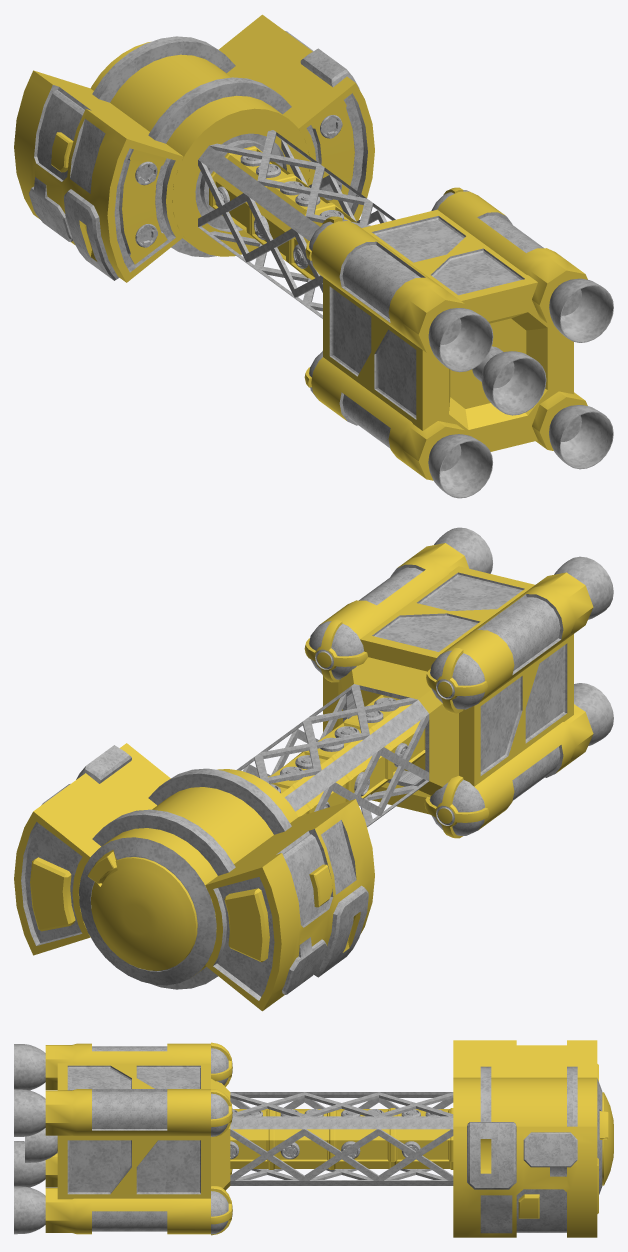
The model's file is Fregate.fbx.
The picture shows the model from 3 angles, top to bottom: view 1: azimuth 30°, elevation 25°; view 2: azimuth 150°, elevation 25°; view 3: azimuth 270°, elevation 25°; orthographic projection. The views are drawn at different scales.
Parts seen in each view (by area): view 1: ME_Frigate_Rotator, ME_Fregate_machinery, ME_Frigate_main_bridge, ME_Fregate_Engine, ME_Fregate_cover, ME_Fregate_Engine.001, ME_Fregate_Engine.002, ME_Fregate_join, ME_Fregate_Engine.003, ME_Fregate_Engine.004; view 2: ME_Frigate_Rotator, ME_Frigate_main_bridge, ME_Fregate_machinery, ME_Fregate_Engine, ME_Fregate_cover, ME_Fregate_Engine.001, ME_Fregate_Engine.002, ME_Fregate_join; view 3: ME_Frigate_Rotator, ME_Fregate_machinery, ME_Fregate_cover, ME_Fregate_Engine.002, ME_Frigate_main_bridge, ME_Fregate_Engine.003, ME_Fregate_join, ME_Fregate_Engine, ME_Fregate_Engine.001, ME_Fregate_Engine.004.
Boxes of the visible parts, x1=… form: ME_Frigate_Rotator: x1=14, y1=14, x2=374, y2=282; ME_Fregate_machinery: x1=323, y1=209, x2=573, y2=451; ME_Frigate_main_bridge: x1=90, y1=36, x2=309, y2=257; ME_Fregate_Engine: x1=305, y1=216, x2=493, y2=372; ME_Fregate_cover: x1=198, y1=130, x2=395, y2=318; ME_Fregate_Engine.001: x1=304, y1=351, x2=492, y2=498; ME_Fregate_Engine.002: x1=431, y1=187, x2=613, y2=342; ME_Fregate_join: x1=209, y1=146, x2=357, y2=279; ME_Fregate_Engine.003: x1=532, y1=391, x2=613, y2=469; ME_Fregate_Engine.004: x1=472, y1=346, x2=546, y2=415; ME_Frigate_Rotator: x1=14, y1=743, x2=374, y2=1011; ME_Frigate_main_bridge: x1=79, y1=768, x2=298, y2=989; ME_Fregate_machinery: x1=323, y1=566, x2=573, y2=814; ME_Fregate_Engine: x1=426, y1=556, x2=613, y2=713; ME_Fregate_cover: x1=237, y1=684, x2=429, y2=827; ME_Fregate_Engine.001: x1=424, y1=683, x2=613, y2=838; ME_Fregate_Engine.002: x1=304, y1=527, x2=492, y2=682; ME_Fregate_join: x1=268, y1=694, x2=425, y2=816; ME_Frigate_Rotator: x1=453, y1=1040, x2=598, y2=1237; ME_Fregate_machinery: x1=57, y1=1063, x2=230, y2=1199; ME_Fregate_cover: x1=230, y1=1092, x2=453, y2=1185; ME_Fregate_Engine.002: x1=14, y1=1089, x2=232, y2=1136; ME_Frigate_main_bridge: x1=453, y1=1066, x2=613, y2=1194; ME_Fregate_Engine.003: x1=14, y1=1186, x2=232, y2=1235; ME_Fregate_join: x1=230, y1=1108, x2=453, y2=1169; ME_Fregate_Engine: x1=14, y1=1042, x2=232, y2=1090; ME_Fregate_Engine.001: x1=14, y1=1141, x2=232, y2=1187; ME_Fregate_Engine.004: x1=25, y1=1128, x2=57, y2=1162.
Size of the model in its own units: 2575 by 1678 by 6254.
